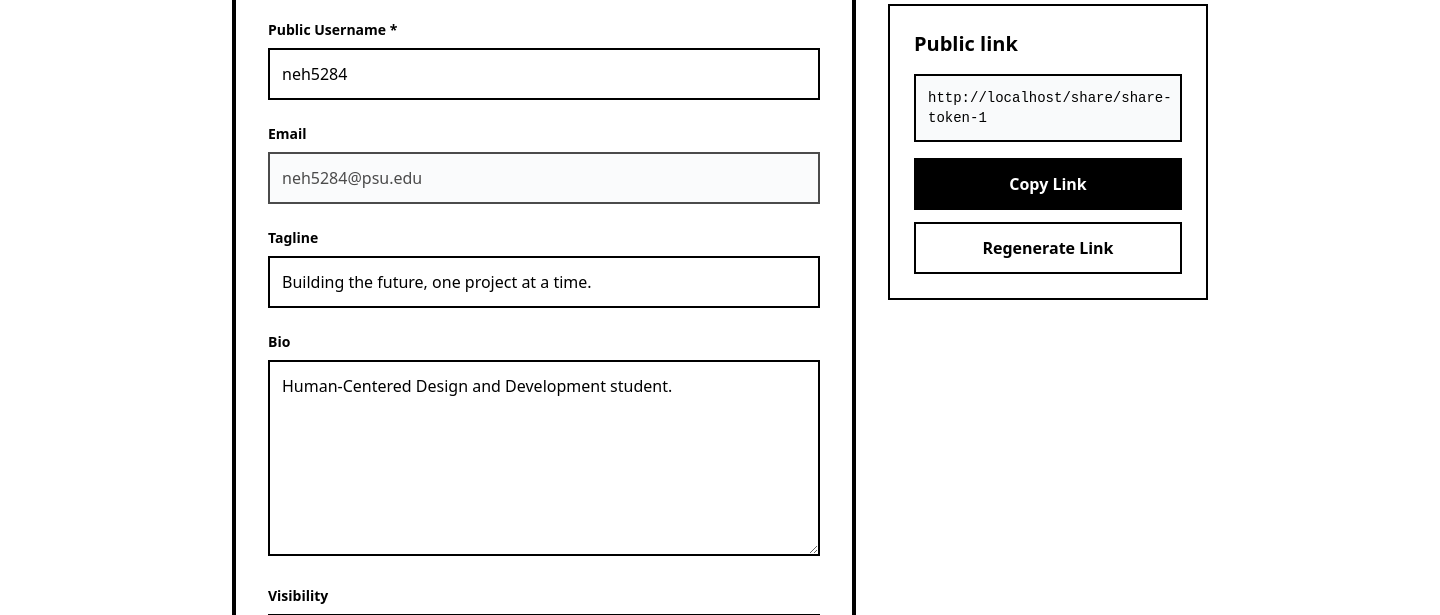
Scenario: Profile major features › regenerates the public share link
The width and height of the screenshot is (1440, 615).
(page scrolled)
expect the heading "Public link" is shown: met, box [914, 30, 1018, 56]
Click the button "Regenerate Link". click: [1048, 248]
box: [914, 222, 1182, 274]
(page scrolled)
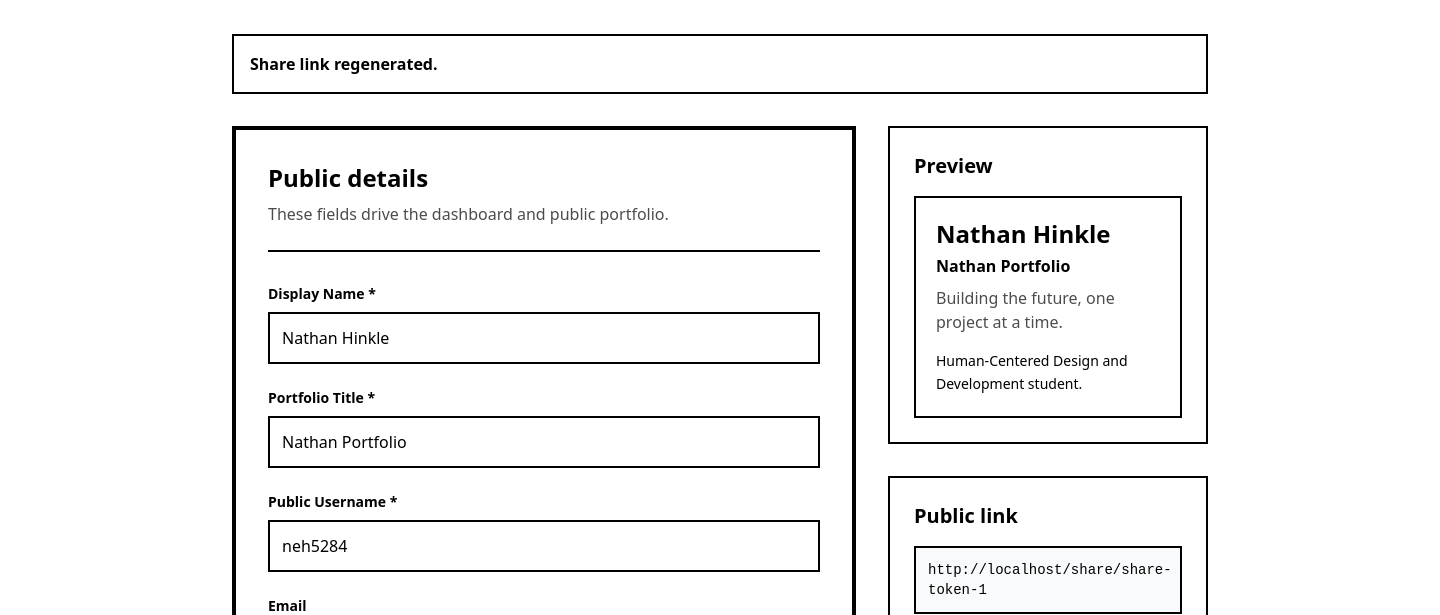
expect the text "Share link regenerated." is shown: met, box [250, 53, 438, 75]
